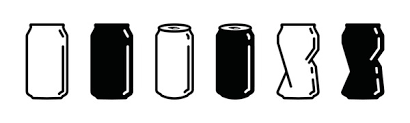can: (85, 19, 140, 103), (273, 21, 326, 105), (211, 20, 262, 103), (338, 20, 389, 103), (152, 18, 198, 103), (25, 19, 72, 101)
